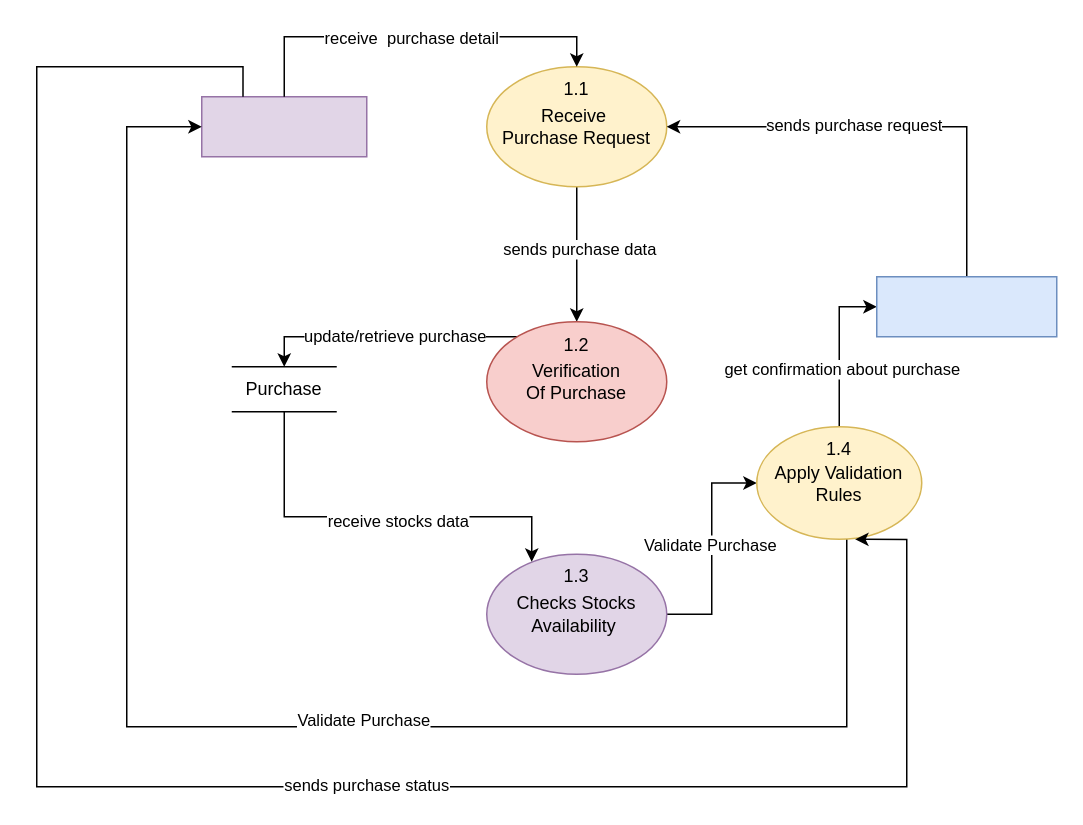
Some shapes in this 1083 by 825 pixel diagram are drawn without their labels. Each missing label, with the centre of its shape:
Admin: point 283,126
Customer: point 966,306
